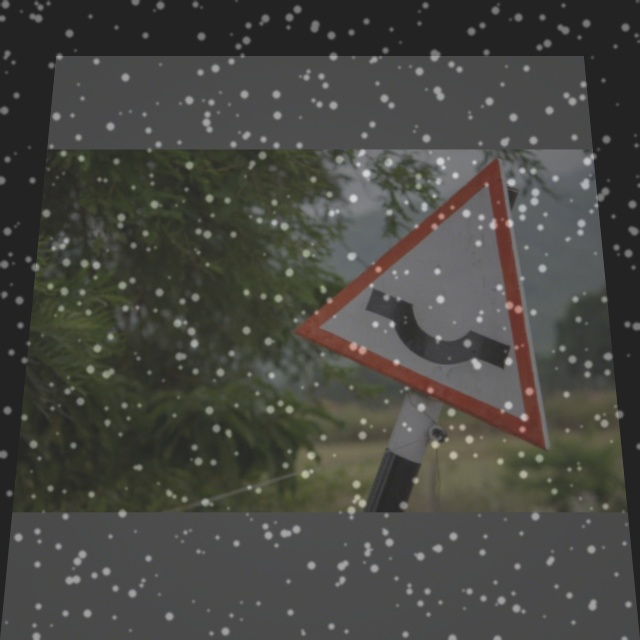Dangerous_Dip: (290, 160, 556, 433)
